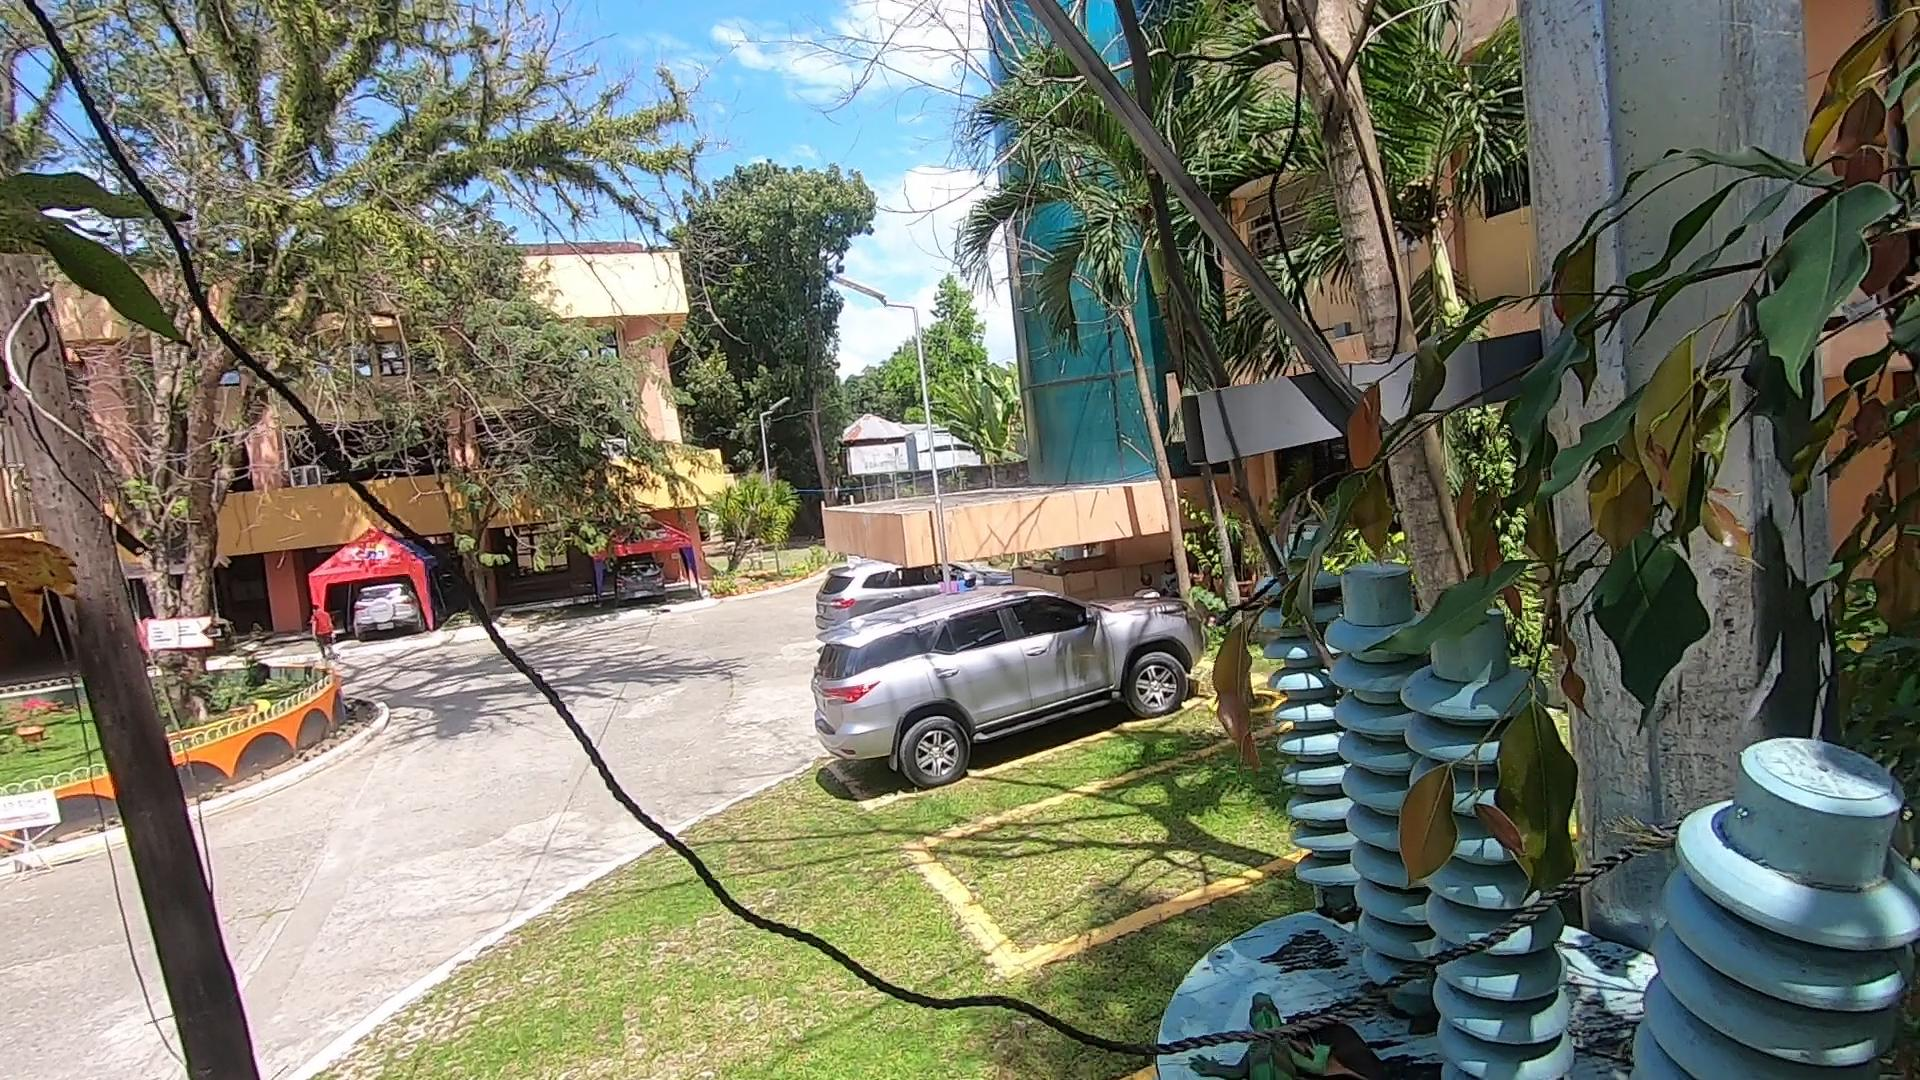branch with leaves: (1174, 360, 1695, 902)
tree branch: (1087, 5, 1261, 396)
